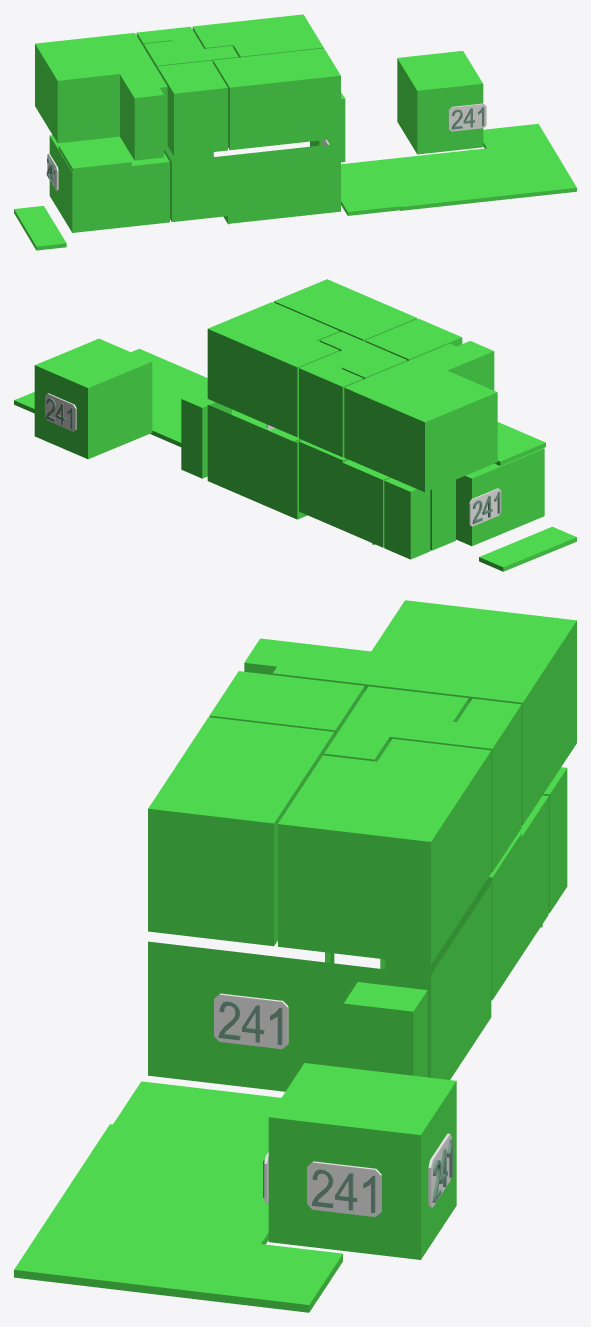
3 views of the same model, one above another, from view 1: azimuth 30°, elevation 25°; view 2: azimuth 150°, elevation 25°; view 3: azimuth 270°, elevation 25° (orthographic). The views are drawn at different scales.
Visible parts, largest first — view 1: g_11, g_12, g_1, g_7, g_0, g_5, g_9, g_6, g_14, g_8, g_13, g_34 (+2 smaller); view 2: g_11, g_6, g_5, g_2, g_1, g_0, g_7, g_10, g_12, g_3, g_4, g_9 (+5 smaller); view 3: g_12, g_6, g_1, g_7, g_5, g_11, g_2, g_4, g_9, g_10, g_8, g_22 (+2 smaller).
Part boxes in pixels (x1,y1,x2,y2): g_11: [35, 32, 167, 160]; g_12: [341, 123, 576, 215]; g_1: [164, 143, 340, 224]; g_7: [213, 48, 340, 150]; g_0: [49, 135, 169, 232]; g_5: [397, 51, 483, 154]; g_9: [157, 60, 227, 156]; g_6: [192, 14, 323, 57]; g_14: [58, 138, 131, 172]; g_8: [143, 39, 238, 68]; g_13: [14, 206, 66, 250]; g_34: [448, 103, 486, 131]; g_11: [344, 341, 497, 492]; g_6: [207, 302, 339, 437]; g_5: [34, 338, 152, 459]; g_2: [299, 440, 455, 550]; g_1: [207, 405, 307, 519]; g_0: [456, 448, 544, 546]; g_7: [274, 279, 416, 341]; g_10: [299, 358, 363, 457]; g_12: [14, 348, 301, 446]; g_3: [384, 478, 430, 559]; g_4: [181, 388, 231, 478]; g_9: [365, 318, 462, 361]; g_12: [14, 1081, 342, 1312]; g_6: [278, 738, 491, 964]; g_1: [148, 884, 491, 1091]; g_7: [148, 717, 334, 946]; g_5: [268, 1063, 456, 1259]; g_11: [244, 600, 576, 825]; g_2: [385, 795, 548, 1000]; g_4: [343, 982, 427, 1077]; g_9: [209, 671, 364, 737]; g_10: [435, 698, 521, 872]; g_8: [324, 686, 468, 761]; g_22: [307, 1161, 381, 1216].
Size of the model in its own units: 20.05 by 5.35 by 9.91.
